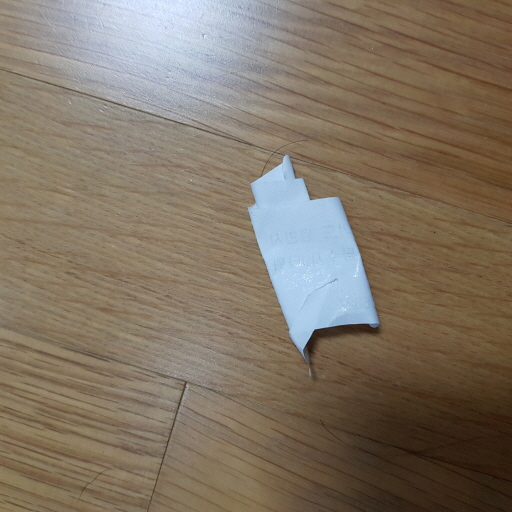Paper_3: (234, 153, 384, 382)
